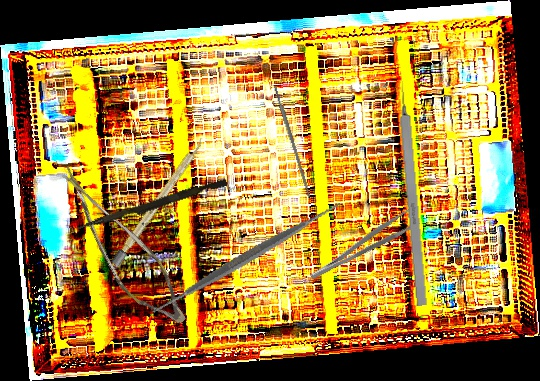Dressing Forceps: (304, 206, 421, 283)
Hook Surgical: (395, 72, 428, 307)
Micro Scissor: (26, 163, 211, 334)
Pusher: (76, 174, 228, 237)
Scalpel Handle: (110, 136, 207, 267), (273, 84, 312, 199)
Spatula Surgical: (141, 151, 353, 365)
